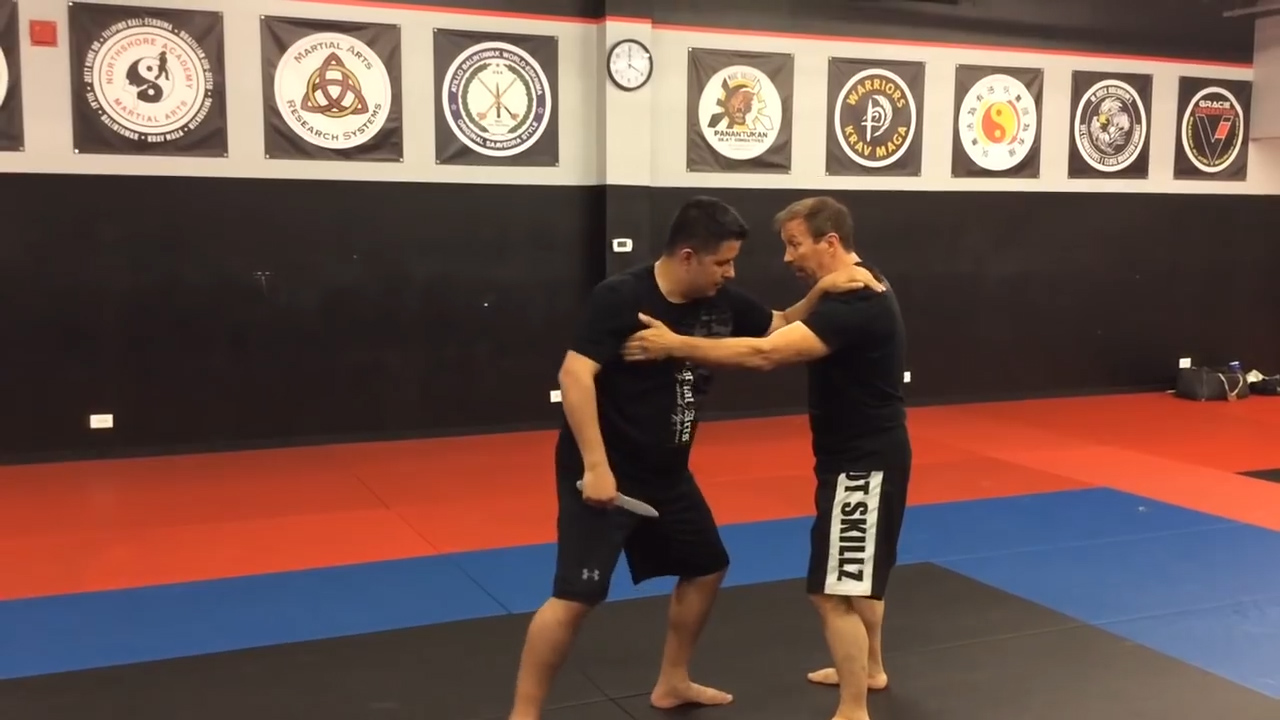knife: (573, 478, 661, 521)
